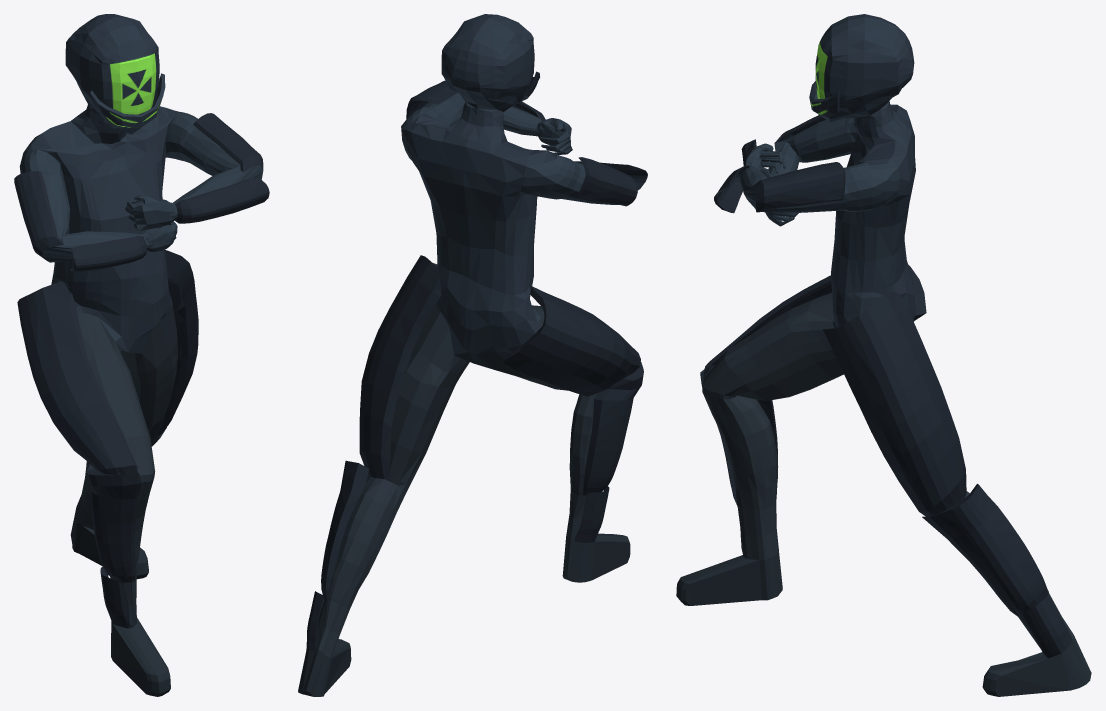
File: Bastion_WR_000018.obj
The picture shows the model from 3 angles, left to right: view 1: azimuth 30°, elevation 25°; view 2: azimuth 150°, elevation 25°; view 3: azimuth 270°, elevation 25°; orthographic projection.
Parts seen in each view (by area): view 1: Cube.002; view 2: Cube.002; view 3: Cube.002.
Boxes of the visible parts, x1,y1,x2,y2 form: Cube.002: (14, 14, 269, 696); Cube.002: (298, 14, 647, 696); Cube.002: (676, 14, 1091, 696).
Bounding box in the file's own units: 1.31 × 3.6 × 2.14.
